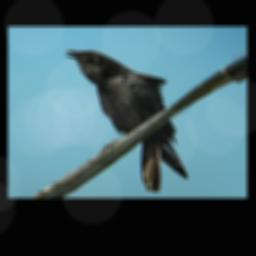Crow: (64, 48, 189, 193)
